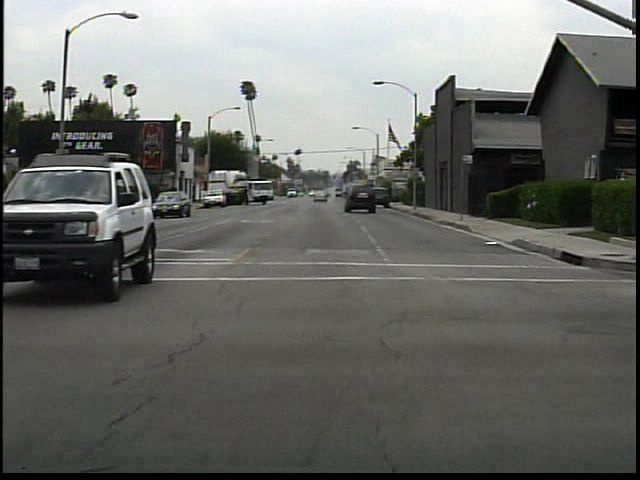person: (80, 182, 101, 221)
